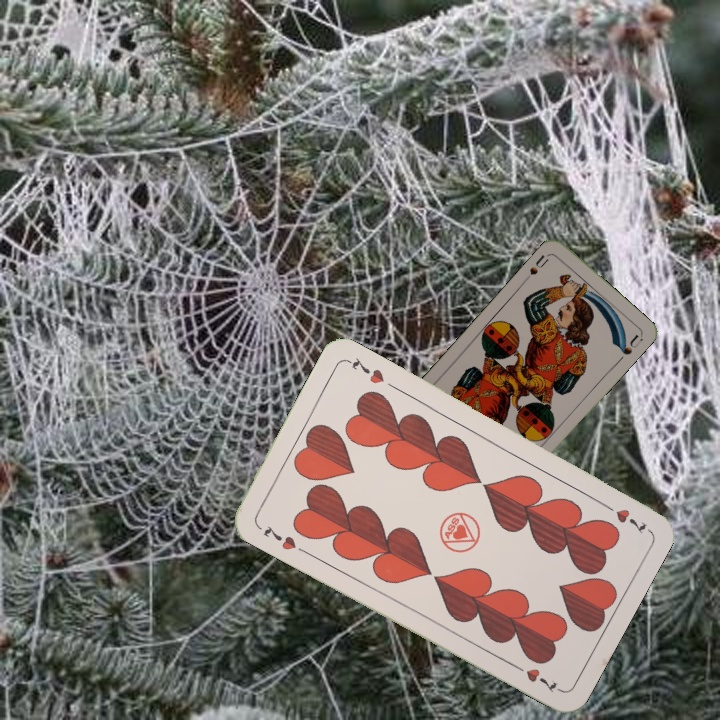H7: (597, 498, 649, 536), (259, 521, 299, 553)
SU: (521, 250, 552, 283)
